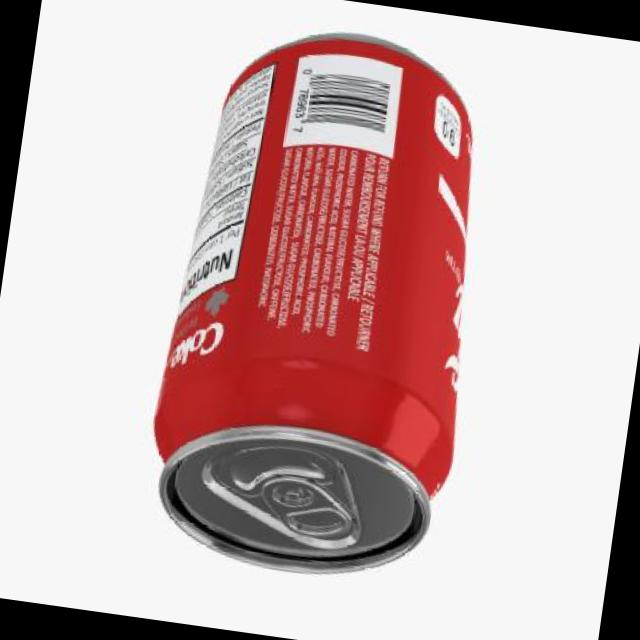Kaleng: (135, 14, 512, 596)
